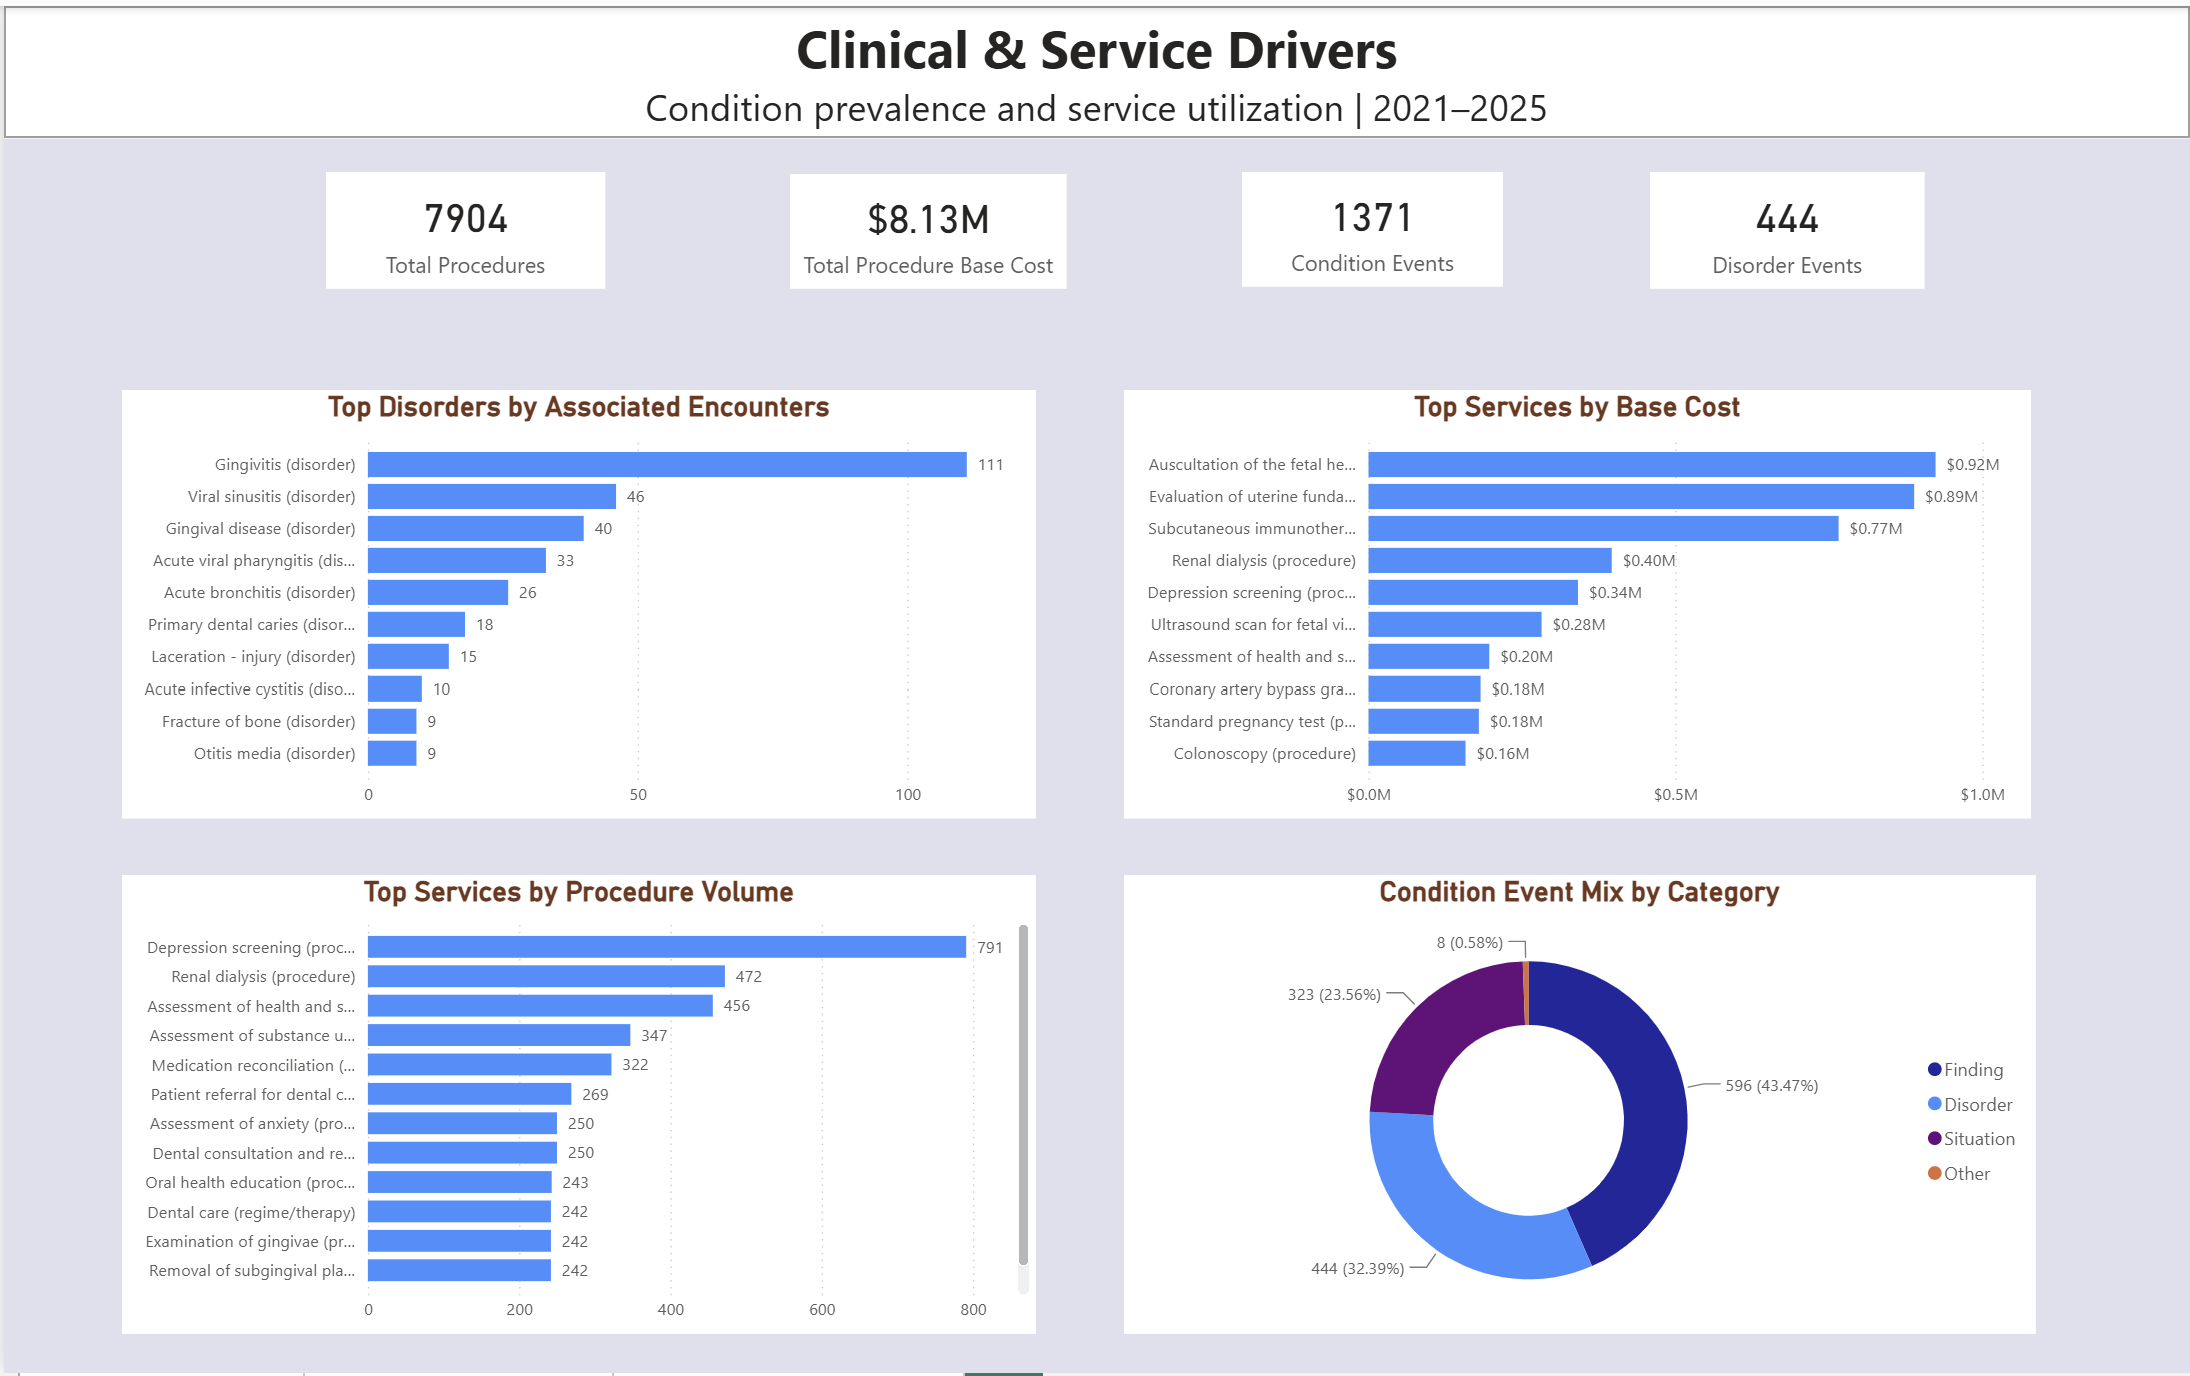

Layout of this report page (visuals, bound fields, positions):
{"tool":"powerbi","page":{"name":"Clinical & Service Drivers","canvas":[1600,1000],"ordinal":2},"visuals":[{"type":"textbox","box":[0,0,1600,97.2],"z":0},{"type":"card","fields":{"Values":["KPI Measures.Total Procedures"]},"box":[235.6,121.9,204.3,85.7],"z":1000},{"type":"card","fields":{"Values":["KPI Measures.Total Procedure Base Cost"]},"box":[575.1,123.6,202.7,84],"z":2000},{"type":"card","fields":{"Values":["KPI Measures.Condition Events"]},"box":[906.3,121.9,191.1,84],"z":3000},{"type":"card","fields":{"Values":["KPI Measures.Disorder Events"]},"box":[1204.5,121.9,201,85.7],"z":4000},{"type":"clusteredBarChart","title":"Top Disorders by Associated Encounters","fields":{"Category":["Condition Utilization.condition_description"],"Y":["Sum(Condition Utilization.associated_encounters)"]},"box":[85.7,281.8,669,313.1],"z":5000},{"type":"clusteredBarChart","title":"Top Services by Base Cost","fields":{"Category":["Procedure Performance.procedure_description"],"Y":["Sum(Procedure Performance.total_procedure_base_cost)"]},"box":[820.6,281.8,664.1,313.1],"z":5001},{"type":"clusteredBarChart","title":"Top Services by Procedure Volume","fields":{"Category":["Procedure Performance.procedure_description"],"Y":["Sum(Procedure Performance.procedure_count)"]},"box":[85.7,636,669,336.1],"z":5002},{"type":"donutChart","title":"Condition Event Mix by Category","fields":{"Category":["Condition Utilization.condition_category"],"Y":["Sum(Condition Utilization.condition_events)"]},"box":[820.6,636,667.4,336.1],"z":5003}]}

Visuals, with their boxes in screenshot pixels (x1, y1, x2, y2), scaled from the page's 1600x1000 canvas onto the 2190x1376 screenshot:
textbox: 0,0,2189,134
card - KPI Measures.Total Procedures: 322,168,602,286
card - KPI Measures.Total Procedure Base Cost: 787,170,1065,286
card - KPI Measures.Condition Events: 1240,168,1502,283
card - KPI Measures.Disorder Events: 1649,168,1924,286
"Top Disorders by Associated Encounters" clusteredBarChart: 117,388,1033,819
"Top Services by Base Cost" clusteredBarChart: 1123,388,2032,819
"Top Services by Procedure Volume" clusteredBarChart: 117,875,1033,1338
"Condition Event Mix by Category" donutChart: 1123,875,2037,1338
